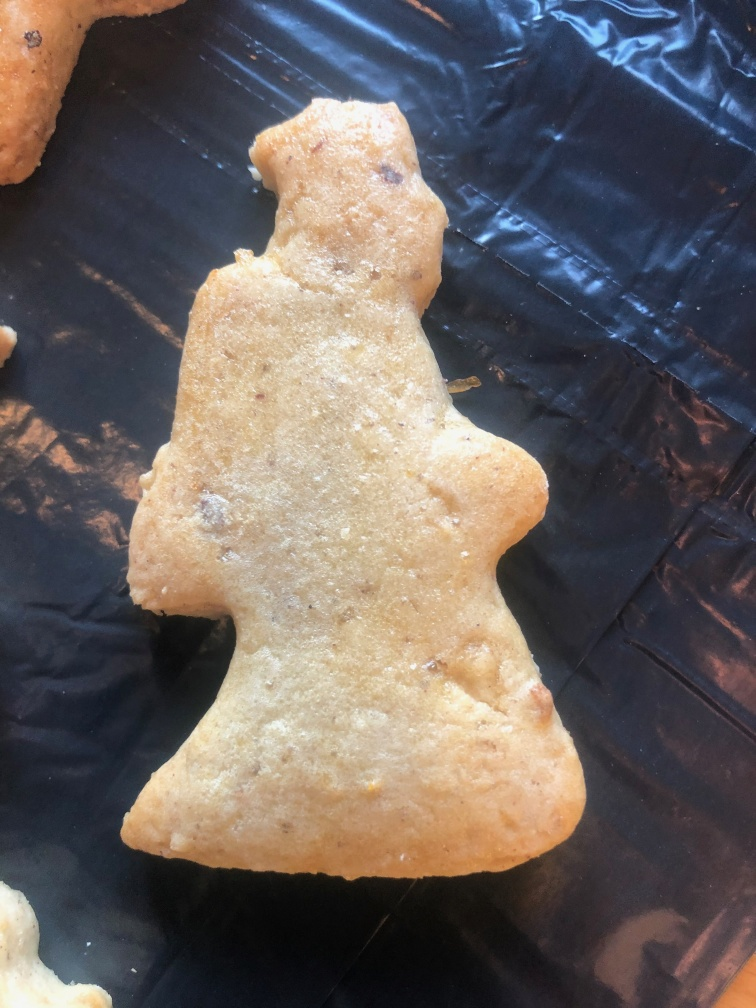king mage: (117, 86, 588, 882)
